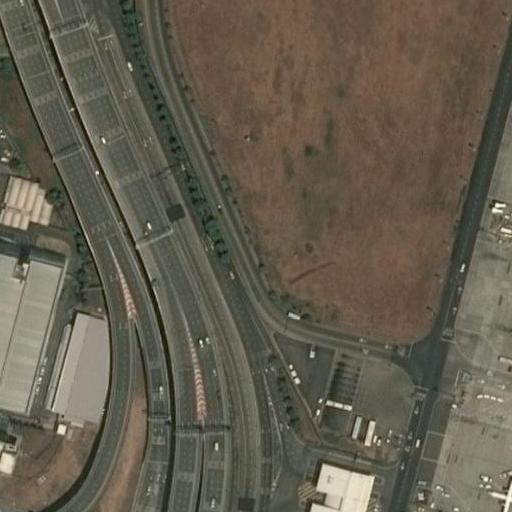Aircraft: (482, 474, 512, 512), (505, 309, 512, 369)
